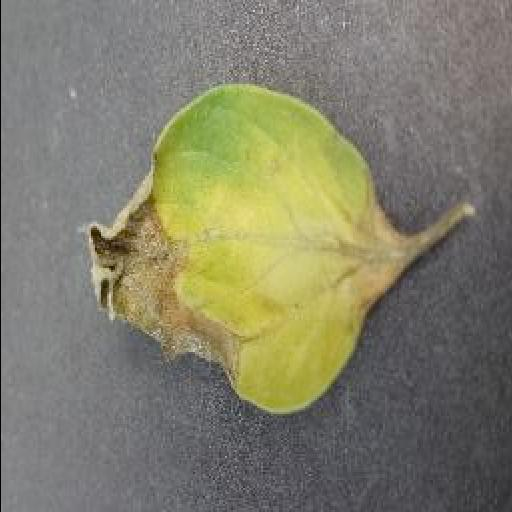disease_tomato: (78, 78, 402, 416)
